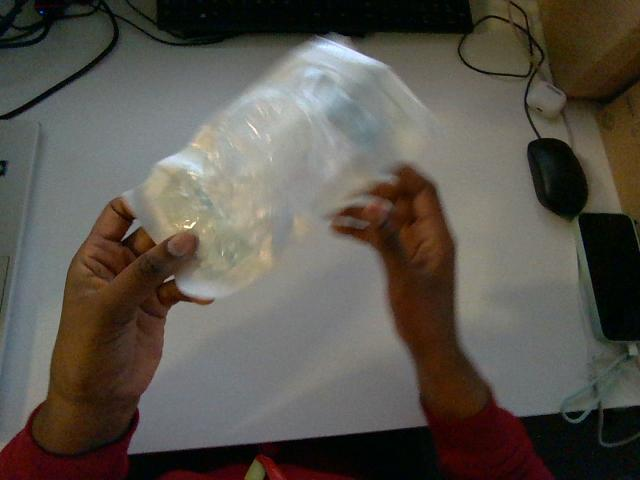gallipot: (125, 38, 435, 298)
